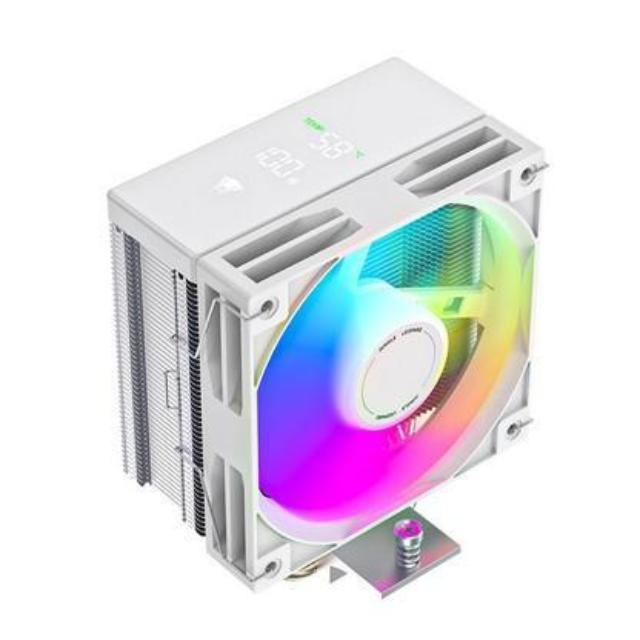CPU_Fan: (106, 56, 542, 601)
